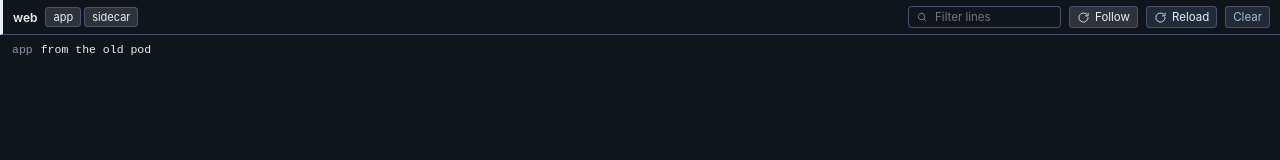
Test: a stream that ended can be opened again without closing the tab
Check: the text "from the old pod" is shown, box [41,43,151,56]
Click the button "Reload" at point(1182, 17), box [1146,6,1217,28]
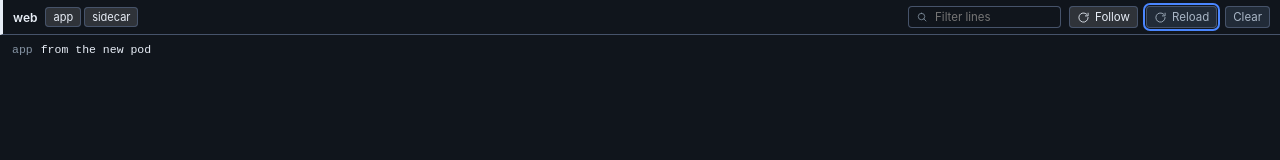
Check: the text "from the new pod" is shown, box [41,43,151,56]
